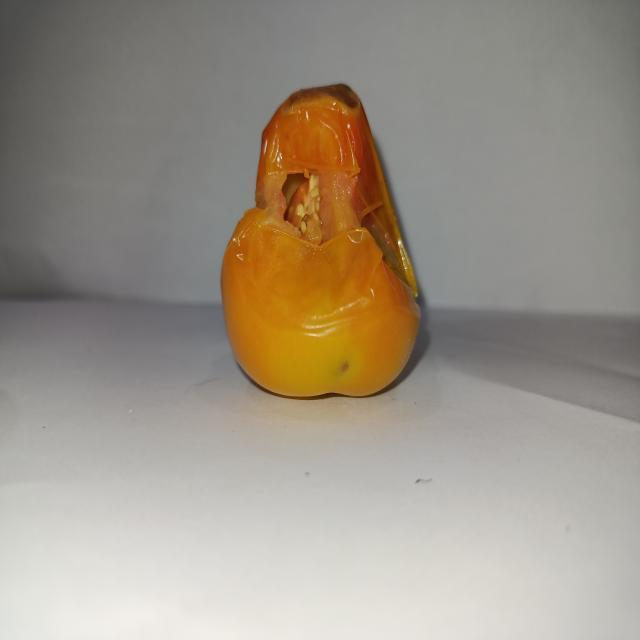Red: (219, 81, 424, 399)
